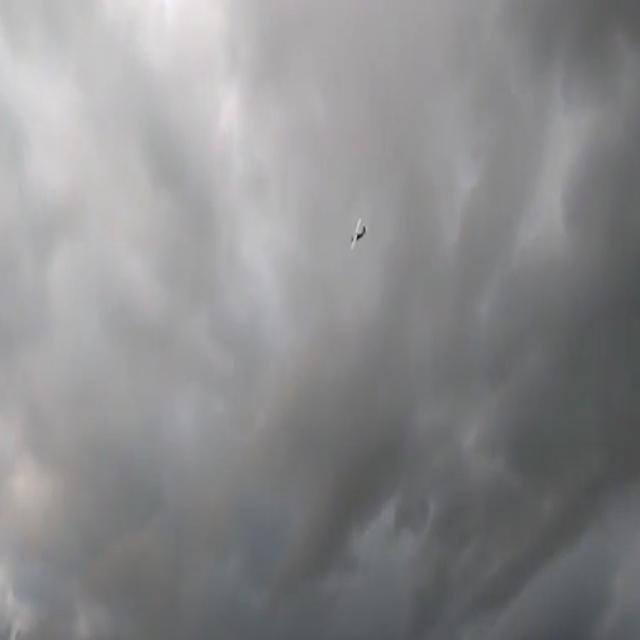iha: (349, 216, 367, 252)
